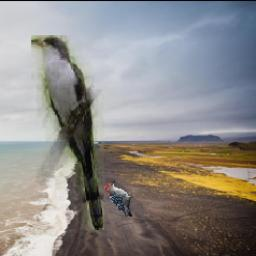Cuckoo: (31, 35, 104, 230)
Woodpecker: (102, 179, 132, 217)
